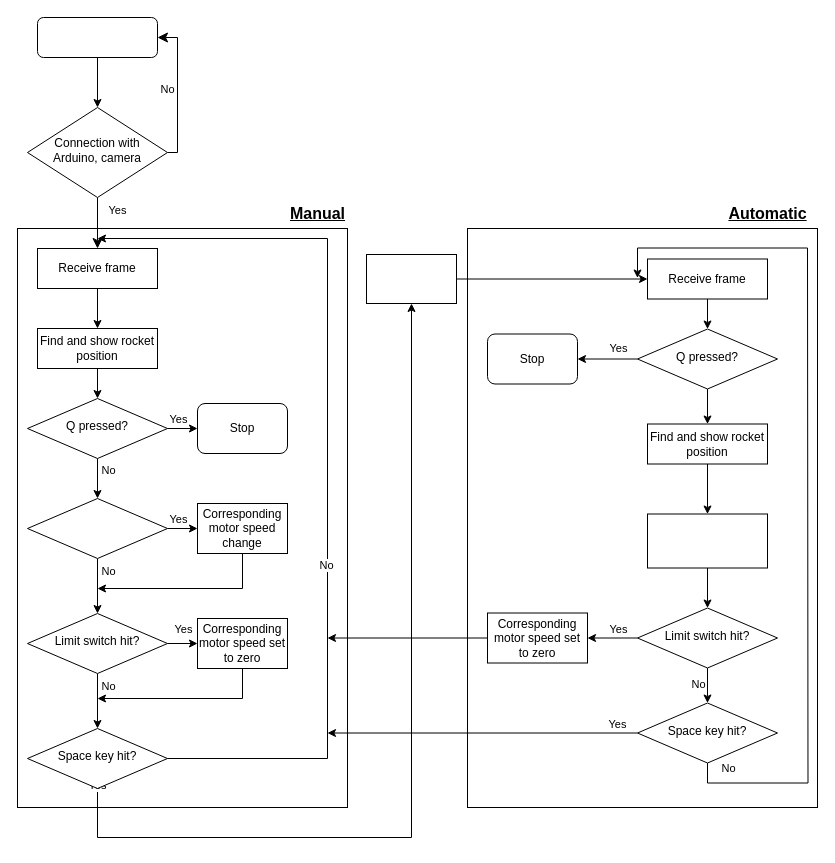
This 835x863 diagram has some shape labels left out. Here are the shapes that lost their labels. From the top down, the centre of each, then its label:
pixel 97 37: Start
pixel 411 279: Set vertical motor to initial guess
pixel 97 528: WASD pressed?
pixel 707 540: Calculate and set new motor speeds with PID
